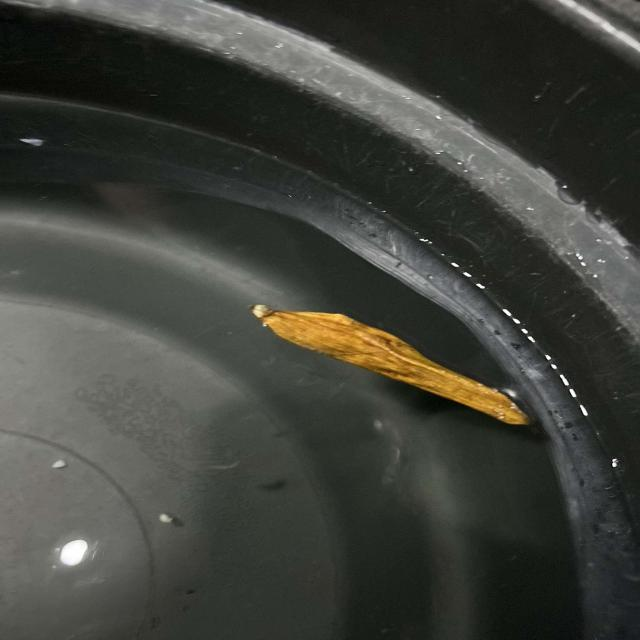Leaf: (232, 289, 548, 442)
